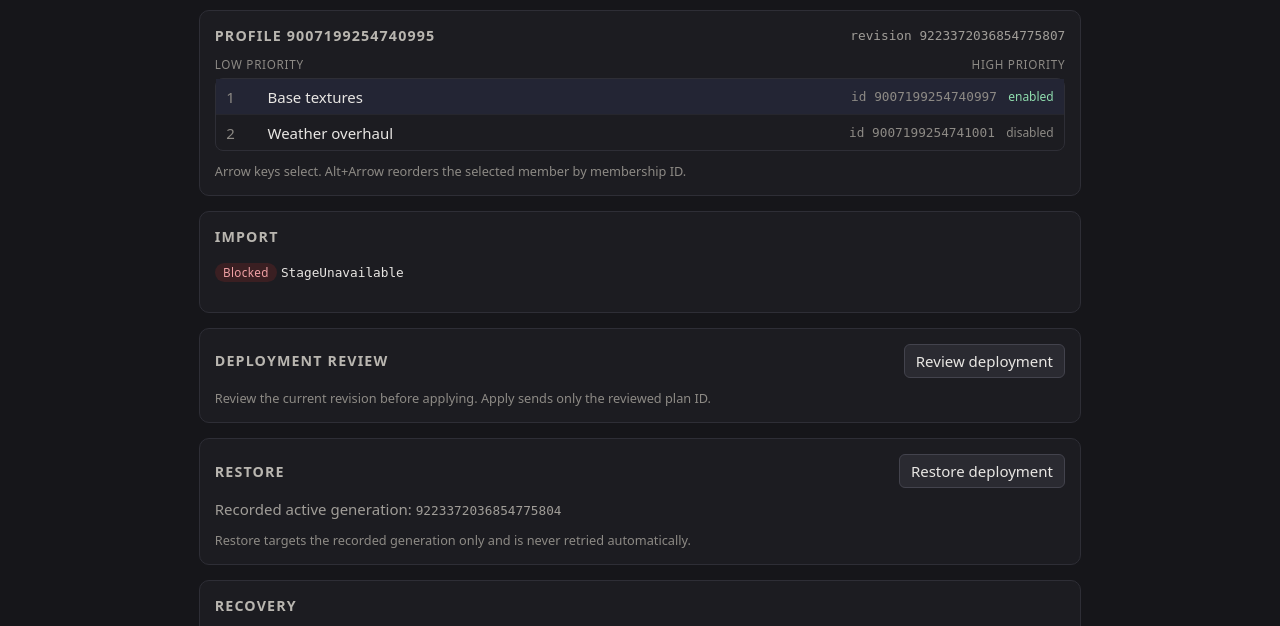
it: workspace shell › reports an Ok Apply result with a blocker as blocked, not accepted
The image size is (1280, 626).
(page scrolled)
Check: the text "revision 9223372036854775807" is shown, box [850,28,1065,43]
What coordinates should you click on to do the following:
click the button "Review deployment"
I would click on:
 (984, 361)
Its box is [904,344,1065,378].
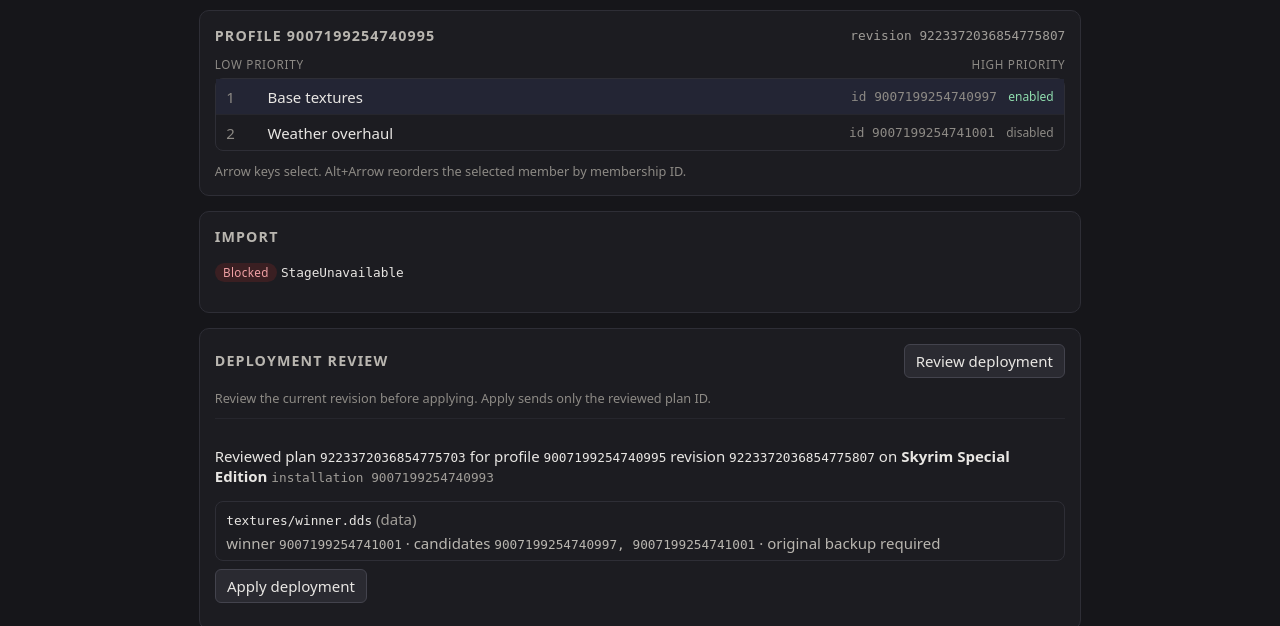
What coordinates should you click on to do the following:
click the button "Apply deployment"
I would click on:
 (291, 586)
Its box is [215,569,367,603].
(page scrolled)
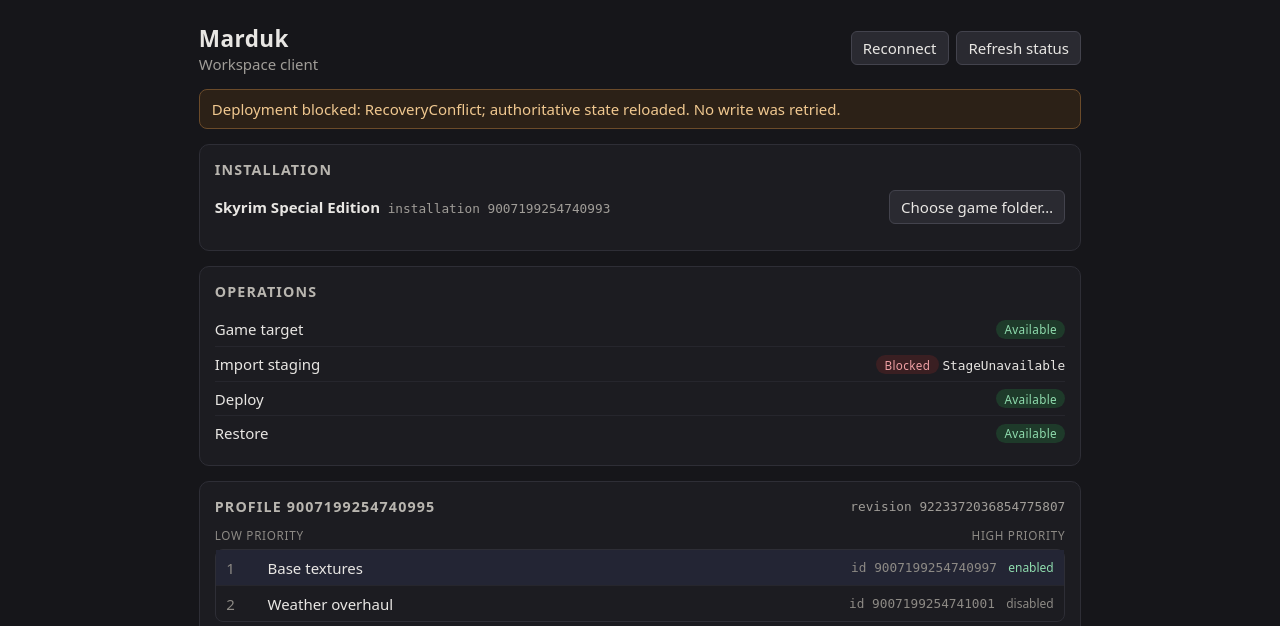
Check: the message does not show "accepted", box [199,88,1081,128]
Check: the message shows "Deployment blocked: RecoveryConflict", box [212,98,840,118]
